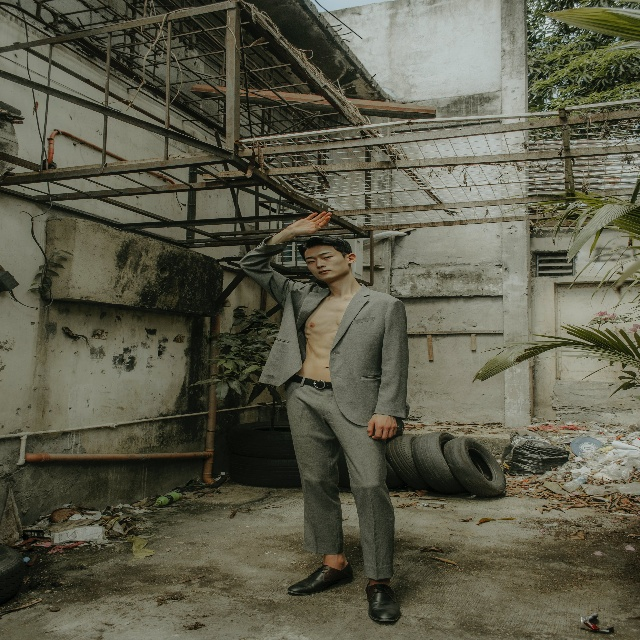Sin_guantes: (286, 210, 332, 237), (367, 413, 398, 441)
